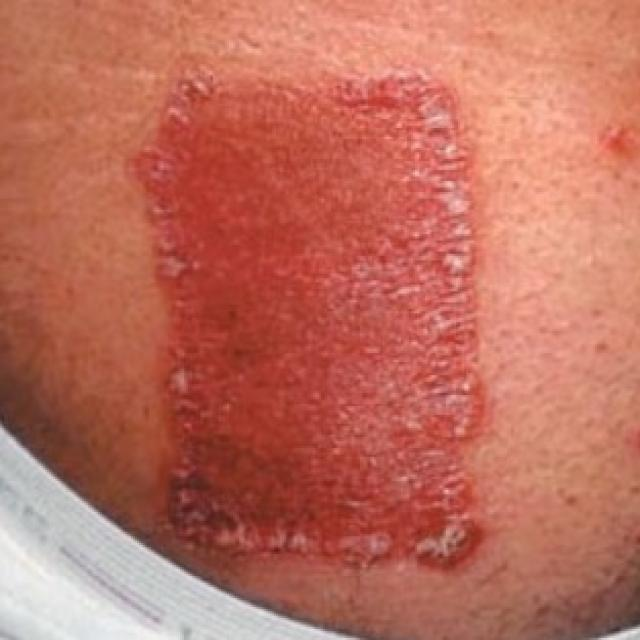Psoriasis Eritrodermica: (0, 0, 638, 638)
